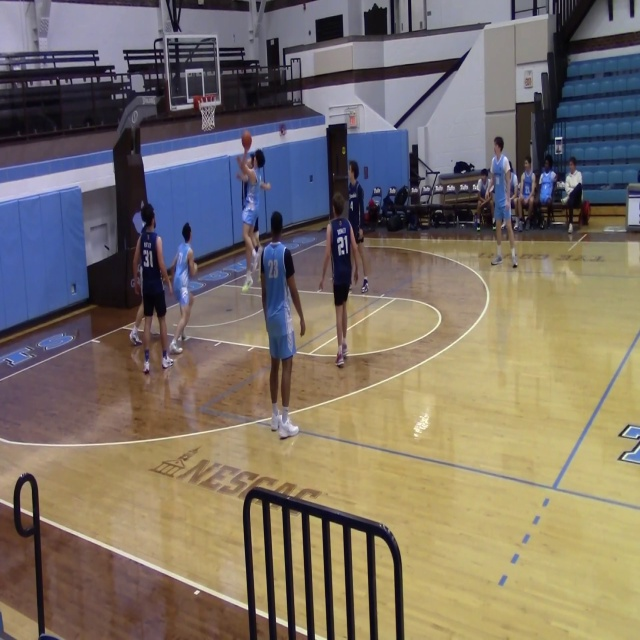Basketball: (241, 131, 252, 150)
